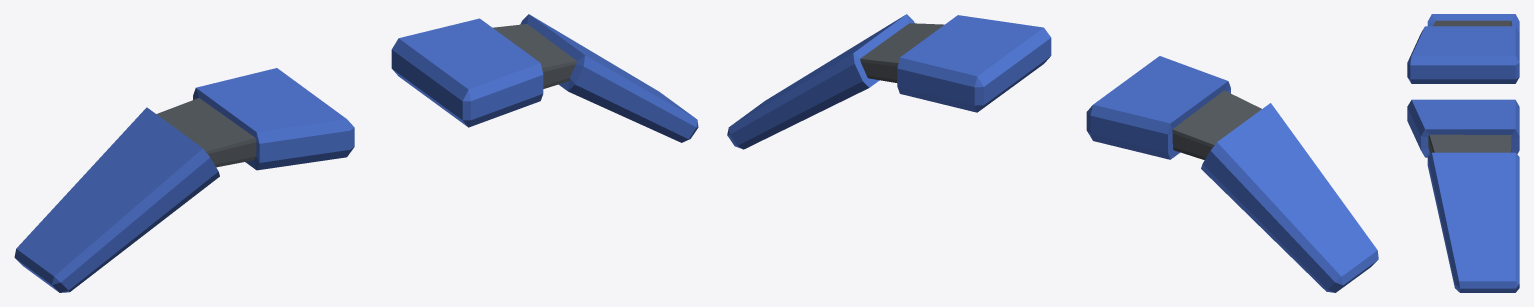
File: Personal_Vehicle_04_Auxillary_Wings_Blue.fbx
3 views of the same model, side by side, from view 1: azimuth 30°, elevation 25°; view 2: azimuth 150°, elevation 25°; view 3: azimuth 270°, elevation 25° (orthographic). The views are drawn at different scales.
Parts seen in each view (by area): view 1: Personal_Vehicle_04_Auxillary_Wings_Blue; view 2: Personal_Vehicle_04_Auxillary_Wings_Blue; view 3: Personal_Vehicle_04_Auxillary_Wings_Blue.
Part boxes in pixels (x1,y1,x2,y2): Personal_Vehicle_04_Auxillary_Wings_Blue: [14, 14, 698, 292]; Personal_Vehicle_04_Auxillary_Wings_Blue: [727, 14, 1378, 292]; Personal_Vehicle_04_Auxillary_Wings_Blue: [1407, 14, 1519, 292].
Bounding box in the file's own units: 166 × 33.44 × 33.49.
Materials: 1 (1 with a texture image).
